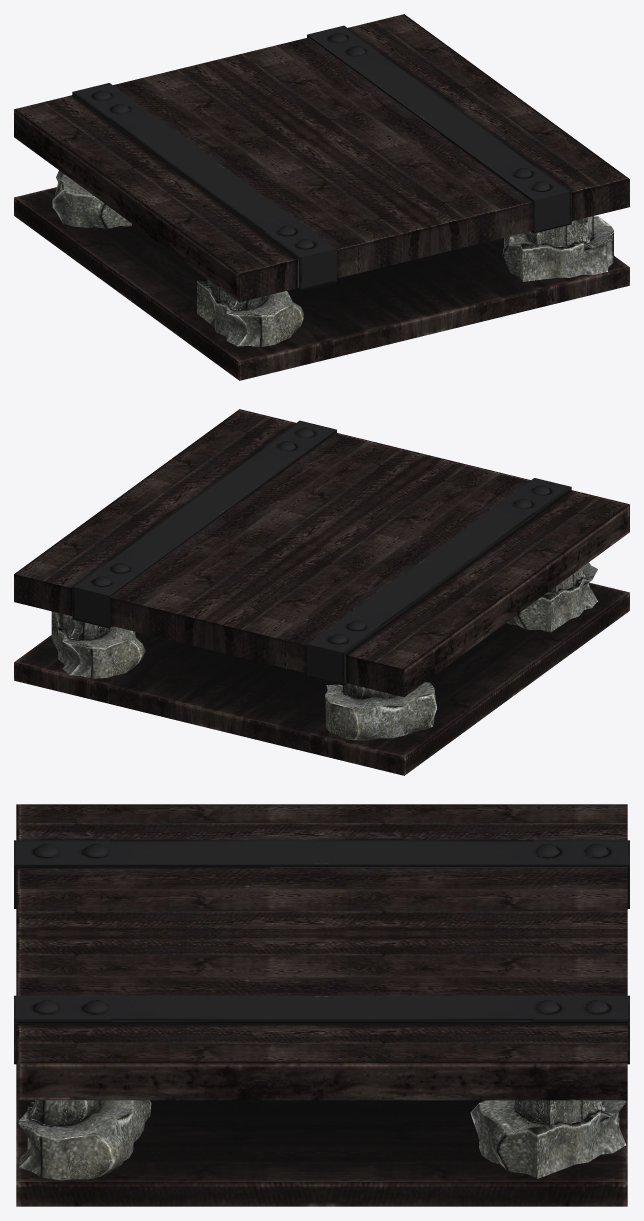
File: Desk05.FBX
3 views of the same model, one above another, from view 1: azimuth 30°, elevation 25°; view 2: azimuth 150°, elevation 25°; view 3: azimuth 270°, elevation 25° (orthographic). The views are drawn at different scales.
Visible parts, largest first — view 1: Desk006; view 2: Desk006; view 3: Desk006.
Part boxes in pixels (x1,y1,x2,y2): Desk006: (14, 14, 629, 380); Desk006: (14, 409, 629, 775); Desk006: (14, 804, 629, 1206).
Bounding box in the file's own units: 199 × 55.53 × 201.
